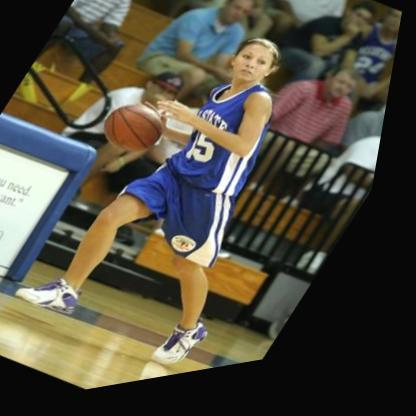basketball: (93, 92, 184, 175)
